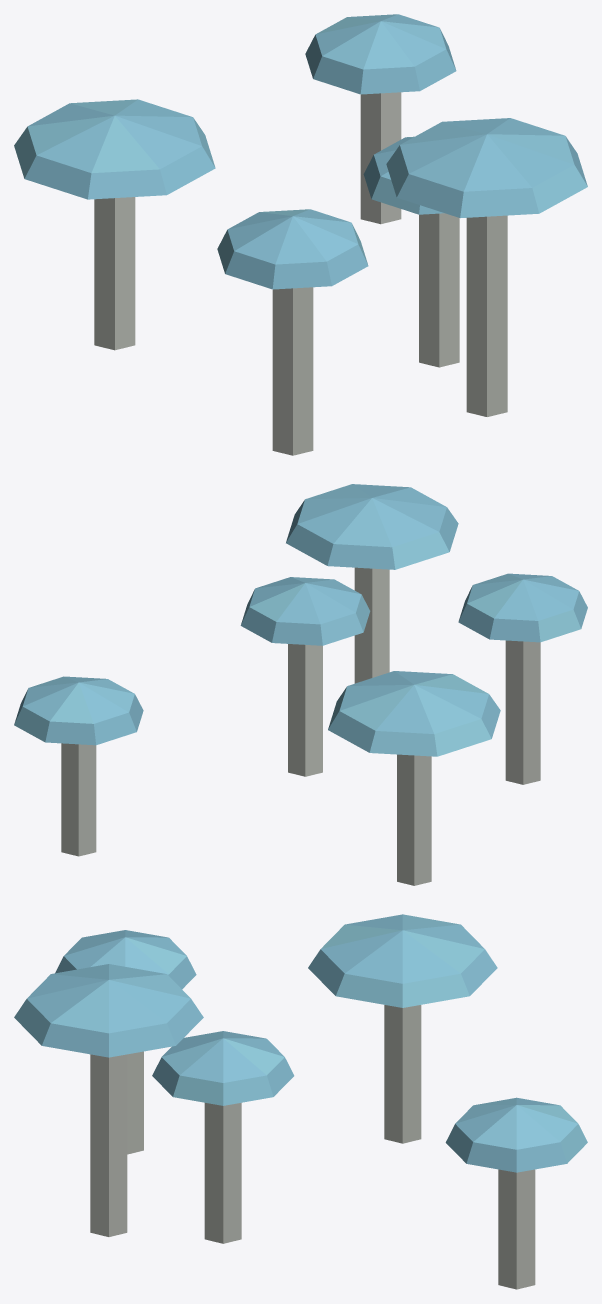
The model's file is mushroom_glowcap.glb.
3 views of the same model, one above another, from view 1: azimuth 30°, elevation 25°; view 2: azimuth 150°, elevation 25°; view 3: azimuth 270°, elevation 25° (orthographic). The views are drawn at different scales.
Parts seen in each view (by area): view 1: ../props/mushroom_glowcap; view 2: ../props/mushroom_glowcap; view 3: ../props/mushroom_glowcap.
Boxes of the visible parts, x1,y1,x2,y2 form: ../props/mushroom_glowcap: [14, 14, 587, 455]; ../props/mushroom_glowcap: [14, 484, 587, 885]; ../props/mushroom_glowcap: [14, 914, 587, 1289].
Bounding box in the file's own units: 0.4309 × 0.2309 × 0.4837.
